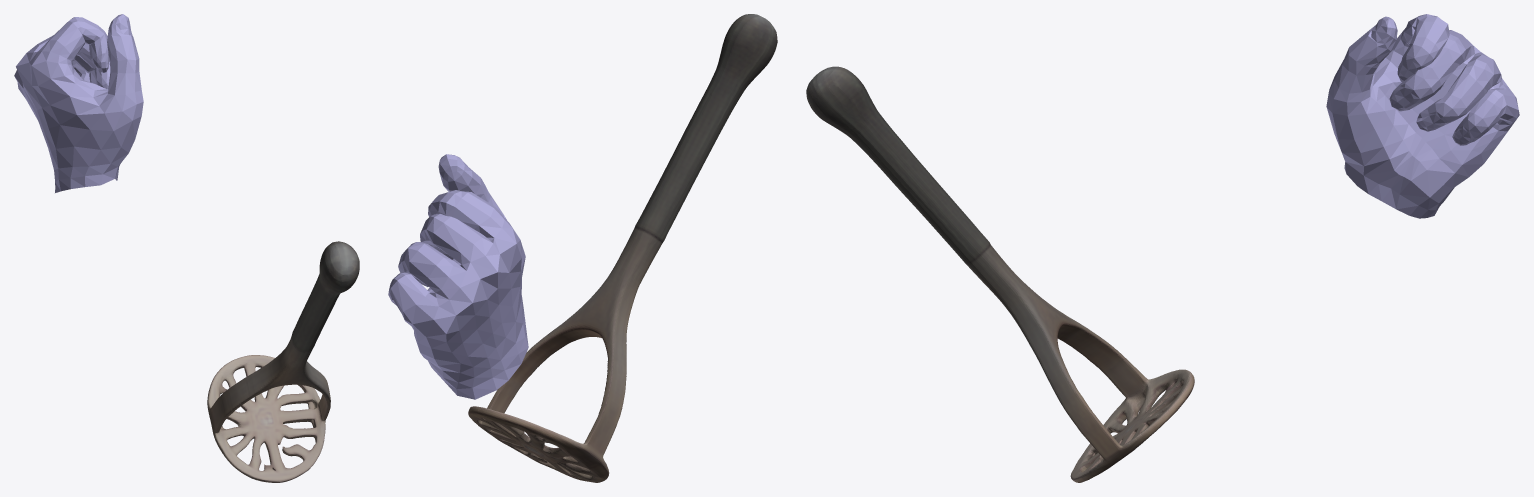
The model's file is frame_0061_source_000061_hand_object.glb.
The picture shows the model from 3 angles, left to right: view 1: azimuth 30°, elevation 25°; view 2: azimuth 150°, elevation 25°; view 3: azimuth 270°, elevation 25°; orthographic projection. The views are drawn at different scales.
Visible parts, largest first — view 1: world; view 2: world; view 3: world.
Part boxes in pixels (x1,y1,x2,y2): world: (14,14,359,482); world: (388,14,777,482); world: (806,14,1519,482).
Size of the model in its own units: 0.1125 by 0.2527 by 0.3711.
